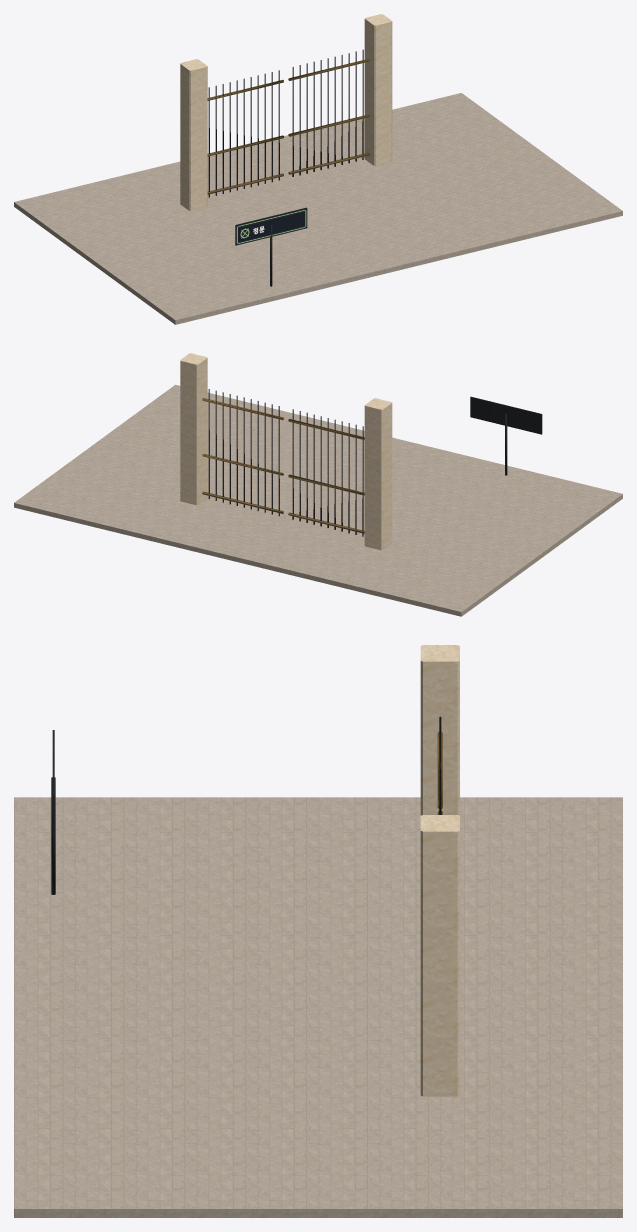
File: explore3d__park_main_gate.glb
3 renders of one model, top to bottom at view 1: azimuth 30°, elevation 25°; view 2: azimuth 150°, elevation 25°; view 3: azimuth 270°, elevation 25°, orthographic. The views are drawn at different scales.
Parts seen in each view (by area): view 1: Rebuilt_park_main_gate; view 2: Rebuilt_park_main_gate; view 3: Rebuilt_park_main_gate.
Part boxes in pixels (x1,y1,x2,y2): Rebuilt_park_main_gate: [14, 14, 622, 324]; Rebuilt_park_main_gate: [14, 353, 622, 616]; Rebuilt_park_main_gate: [14, 645, 622, 1217].
Bounding box in the file's own units: 16 × 4.96 × 10.
Materials: 5 (5 with a texture image).
